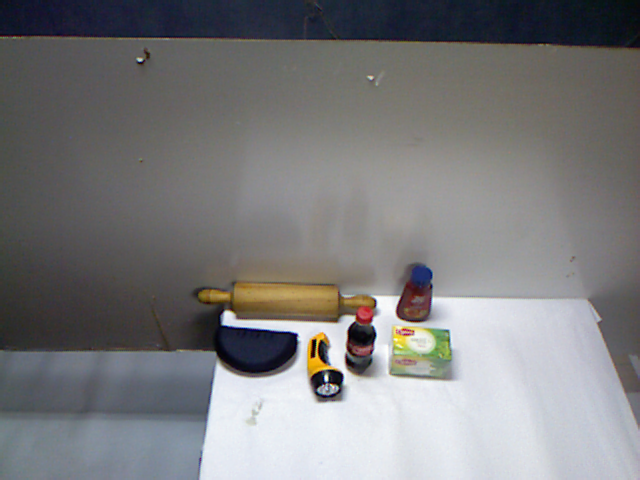cloroplano: (227, 246, 301, 361)
colador: (336, 284, 495, 416)
ketchup: (204, 340, 254, 408)
lata: (309, 278, 345, 342)
mantequilla: (298, 362, 358, 405)
mostaza: (254, 338, 297, 405)
